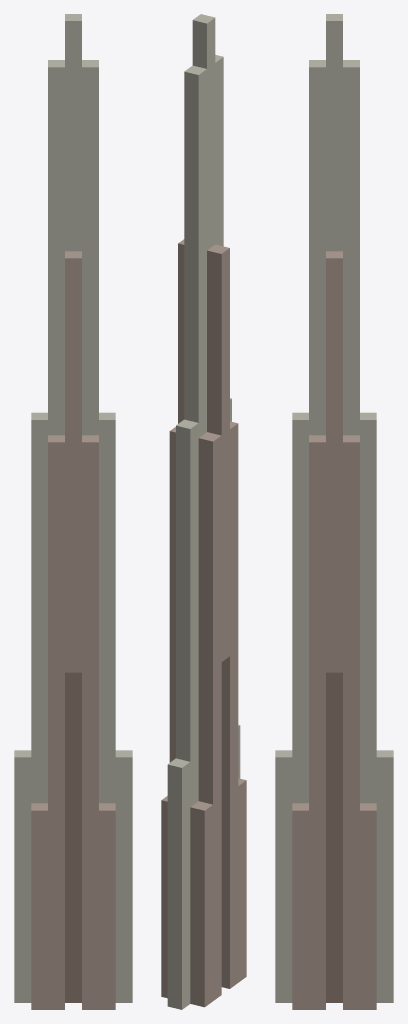
File: DaggerBladeTest_1.fbx
3 views of the same model, side by side, from view 1: azimuth 90°, elevation 25°; view 2: azimuth 150°, elevation 25°; view 3: azimuth 270°, elevation 25° (orthographic).
Parts seen in each view (by area): view 1: DaggerBladeTest_1; view 2: DaggerBladeTest_1; view 3: DaggerBladeTest_1.
Part boxes in pixels (x1,y1,x2,y2): DaggerBladeTest_1: [14, 14, 132, 1009]; DaggerBladeTest_1: [161, 14, 246, 1009]; DaggerBladeTest_1: [275, 14, 393, 1009].
Bounding box in the file's own units: 3 × 64 × 7.
1 material, 1 textured.
